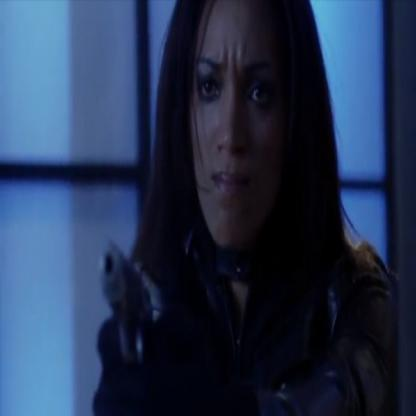Gun: (95, 233, 162, 380)
